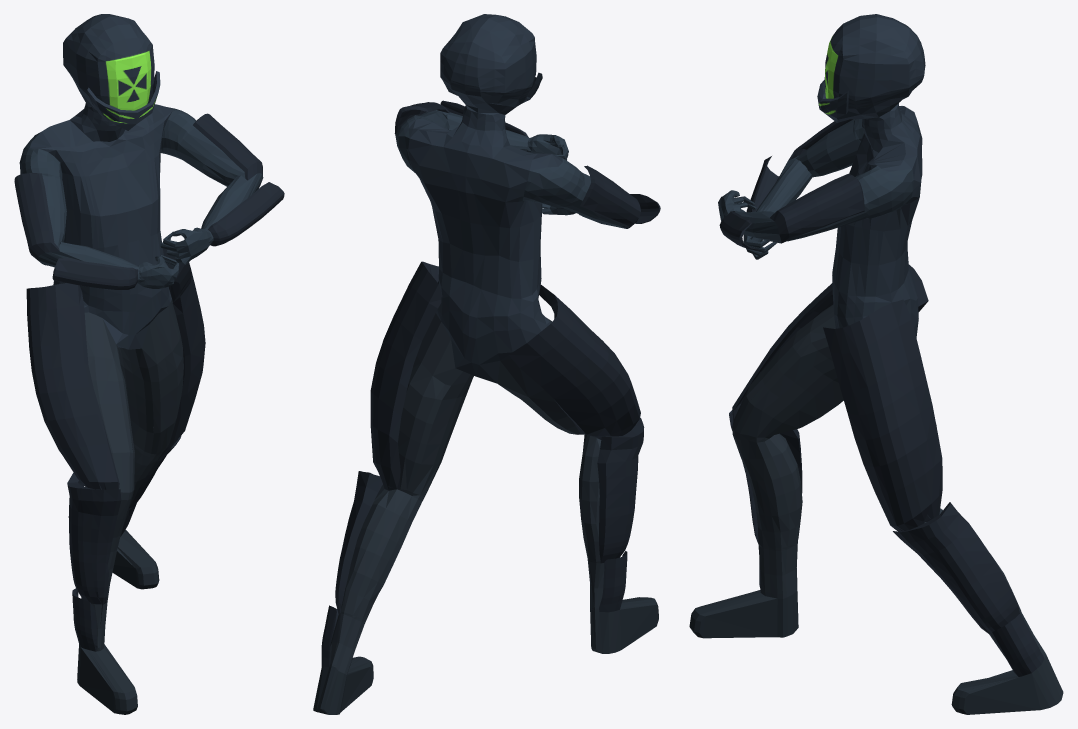
The model's file is Bastion_Stun_000005.obj.
The picture shows the model from 3 angles, left to right: view 1: azimuth 30°, elevation 25°; view 2: azimuth 150°, elevation 25°; view 3: azimuth 270°, elevation 25°; orthographic projection. The views are drawn at different scales.
Visible parts, largest first — view 1: Cube.002; view 2: Cube.002; view 3: Cube.002.
Boxes of the visible parts, <box> form: Cube.002: <box>14,14,284,714</box>; Cube.002: <box>313,14,660,714</box>; Cube.002: <box>689,14,1063,714</box>.
Bounding box in the file's own units: 1.37 × 3.65 × 1.9.
